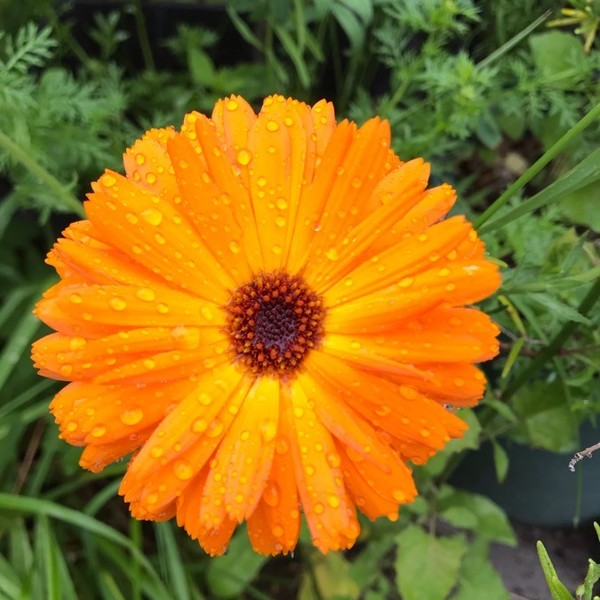obstacle: (0, 76, 516, 593)
